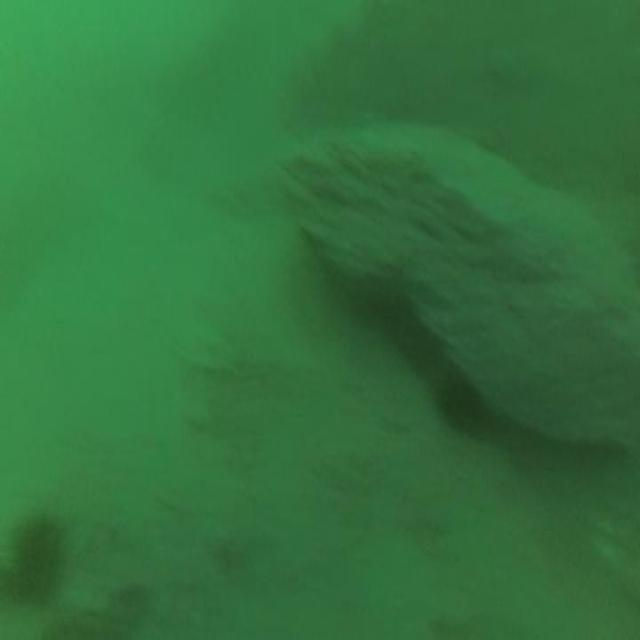echinus: (12, 508, 60, 600), (441, 357, 485, 443)
